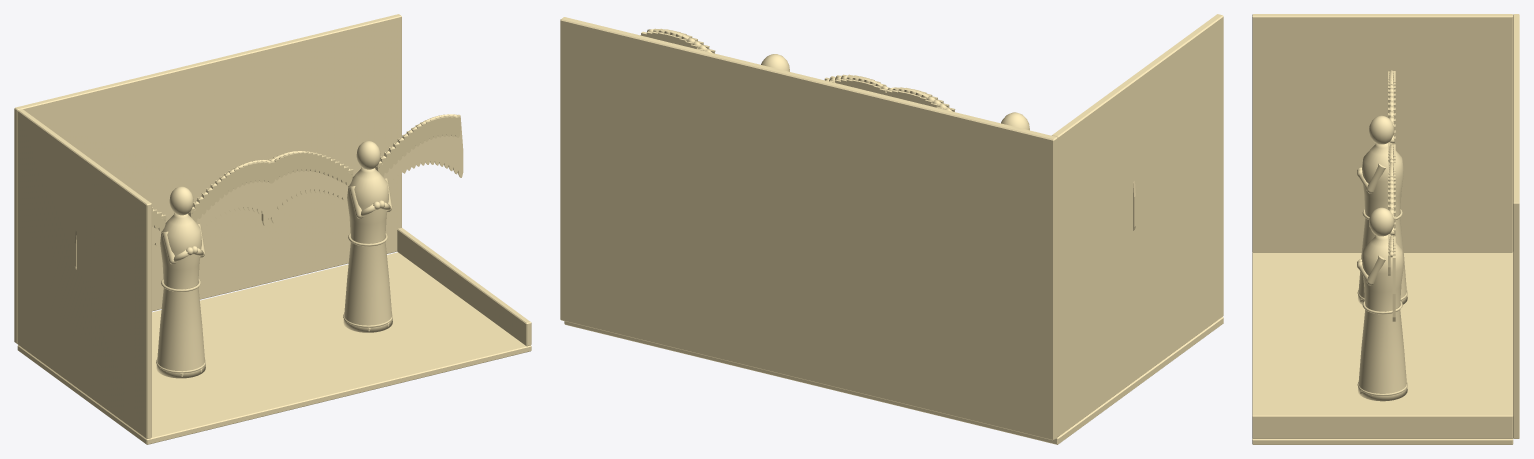
Rendered from temple-cherubim.glb.
3 renders of one model, left to right at view 1: azimuth 30°, elevation 25°; view 2: azimuth 150°, elevation 25°; view 3: azimuth 270°, elevation 25°, orthographic. The views are drawn at different scales.
Visible parts, largest first — view 1: room, cherub, cherub.001; view 2: room, cherub, cherub.001; view 3: room, cherub, cherub.001.
Part boxes in pixels (bbox=[...]): room: bbox=[14, 14, 531, 444]; cherub: bbox=[261, 114, 463, 332]; cherub.001: bbox=[74, 160, 276, 378]; room: bbox=[560, 14, 1223, 444]; cherub: bbox=[640, 28, 890, 96]; cherub.001: bbox=[880, 87, 1135, 230]; room: bbox=[1252, 14, 1519, 444]; cherub: bbox=[1357, 162, 1407, 401]; cherub.001: bbox=[1357, 70, 1407, 304].
Size of the model in its own units: 20.7 by 12.3 by 12.3.
